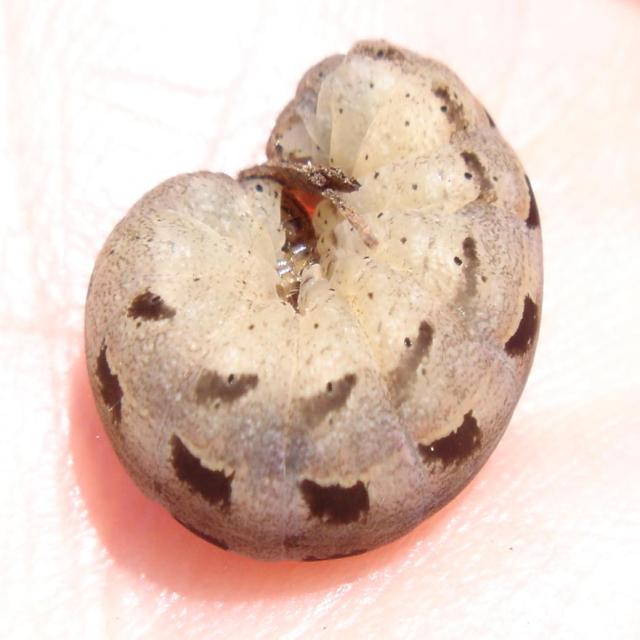worm: (52, 10, 555, 569)
